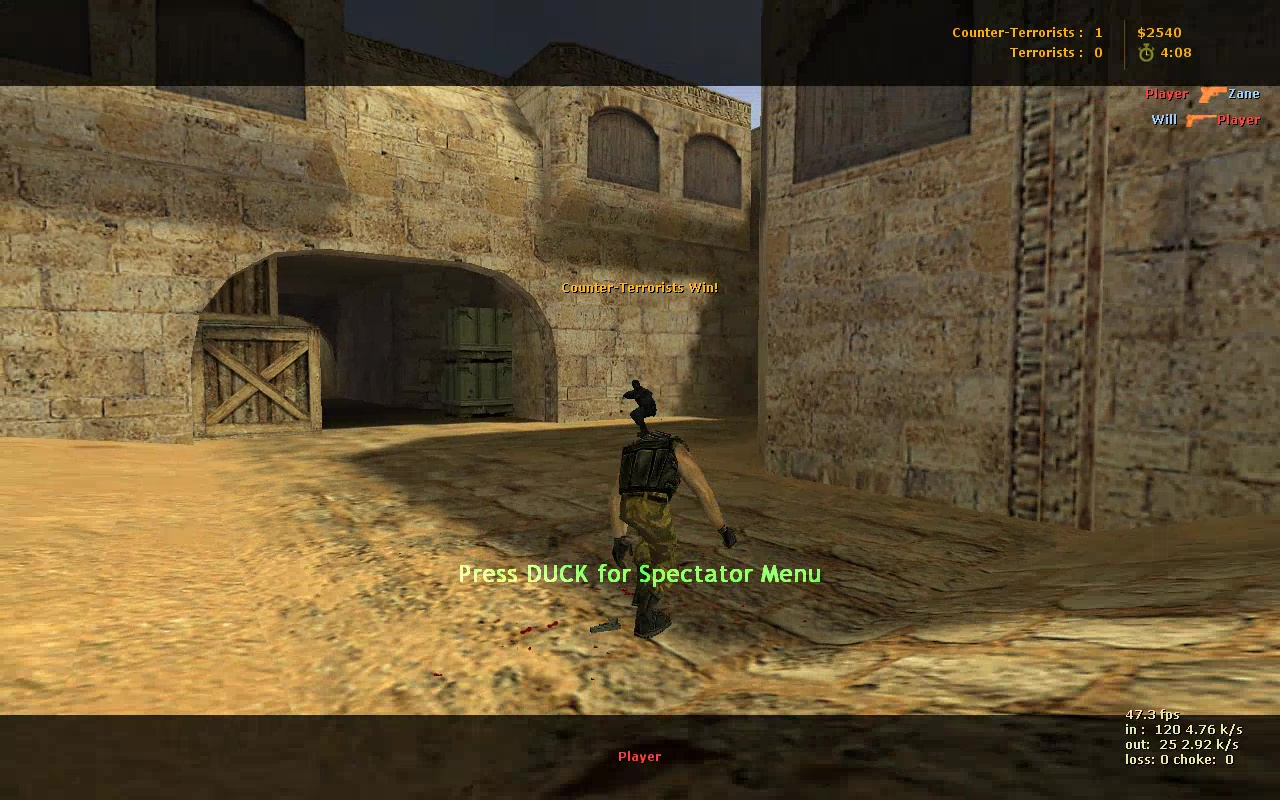ct: (619, 376, 658, 437)
terr1: (608, 428, 738, 640)
